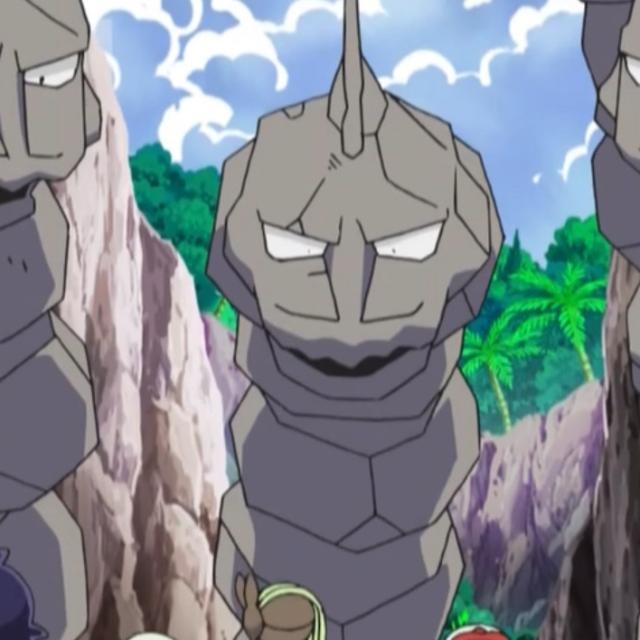Onix: (206, 3, 534, 640)
